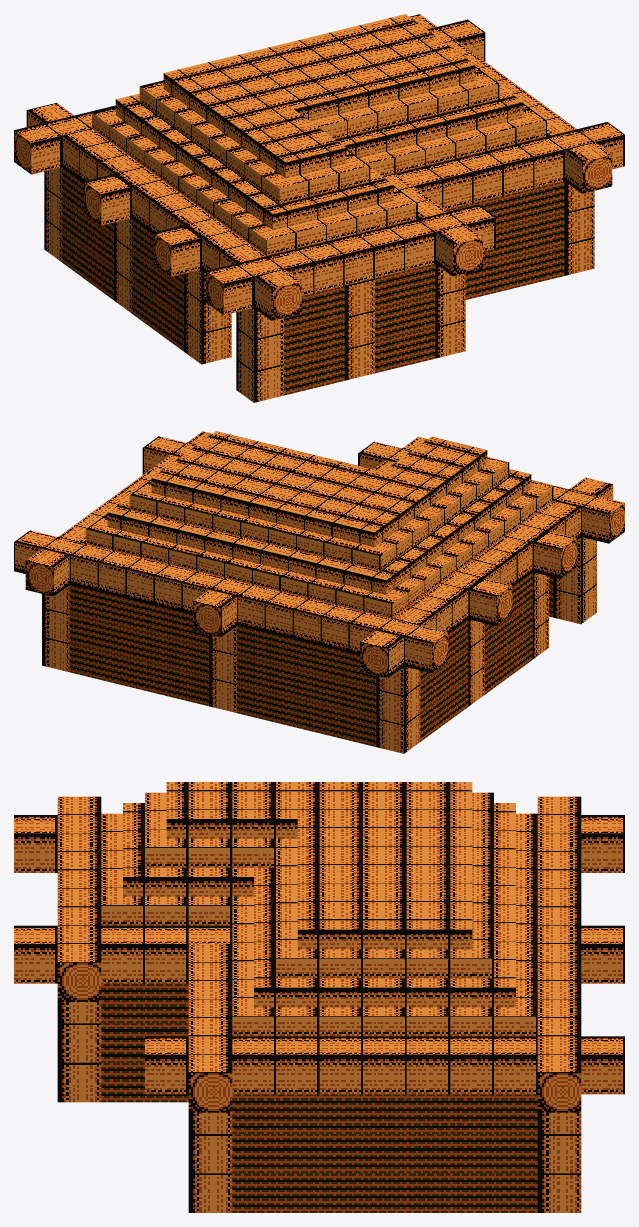
Rendered from smallhouse a.fbx.
3 views of the same model, one above another, from view 1: azimuth 30°, elevation 25°; view 2: azimuth 150°, elevation 25°; view 3: azimuth 270°, elevation 25° (orthographic). The views are drawn at different scales.
Parts seen in each view (by area): view 1: New_World__-3_-60_-12_to_12_318_1; view 2: New_World__-3_-60_-12_to_12_318_1; view 3: New_World__-3_-60_-12_to_12_318_1.
Boxes of the visible parts, box(x1,y1,x2,y2) form: New_World__-3_-60_-12_to_12_318_1: box(14, 14, 624, 402); New_World__-3_-60_-12_to_12_318_1: box(14, 431, 624, 753); New_World__-3_-60_-12_to_12_318_1: box(14, 782, 624, 1212).
Size of the model in its own units: 1500 by 600 by 1400.
